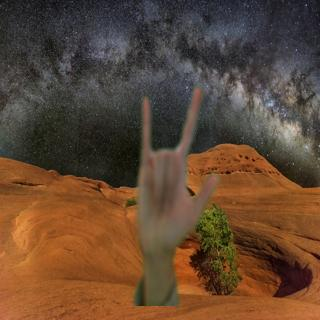ILY: (131, 85, 222, 260)
